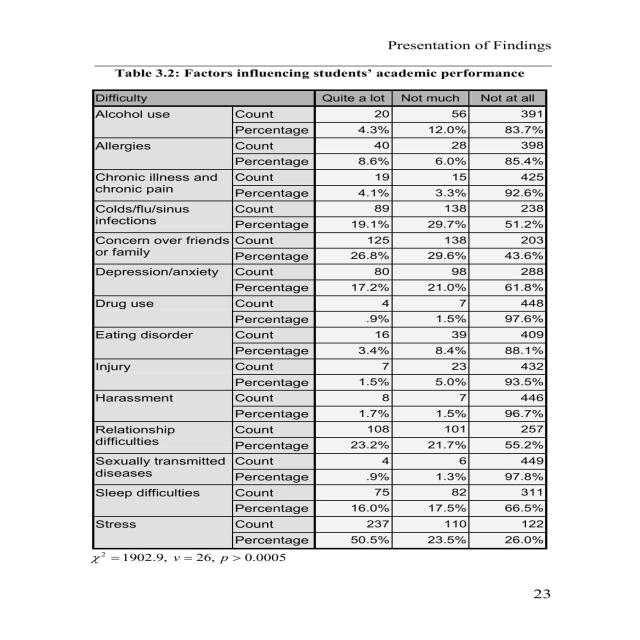table: (94, 92, 544, 544)
